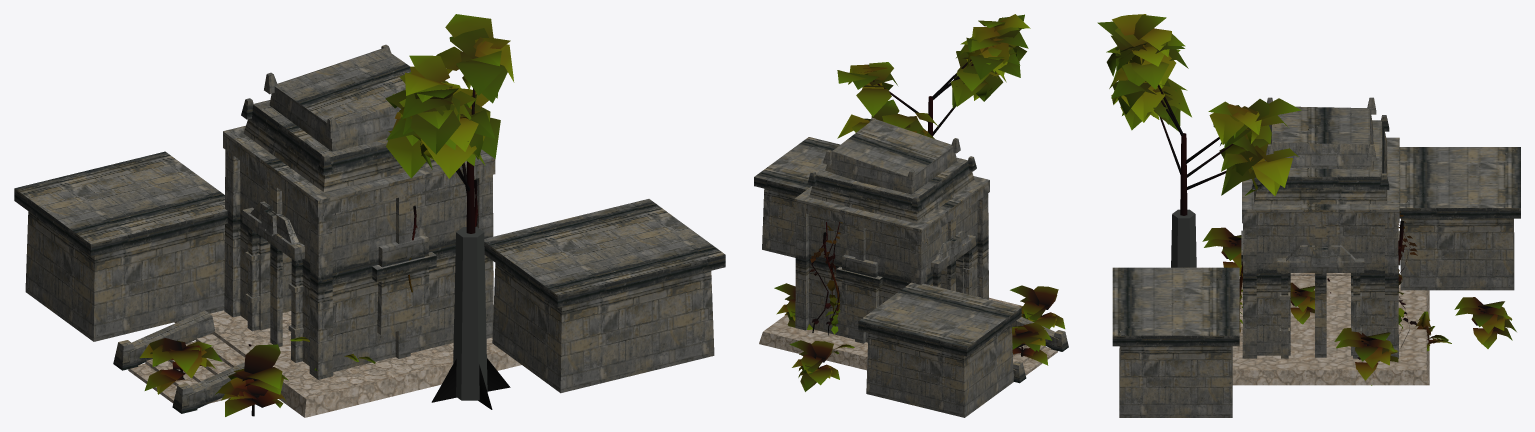
Rendered from prasat_ruin_08.glb.
The picture shows the model from 3 angles, left to right: view 1: azimuth 30°, elevation 25°; view 2: azimuth 150°, elevation 25°; view 3: azimuth 270°, elevation 25°; orthographic projection. The views are drawn at different scales.
Parts seen in each view (by area): view 1: prasat_ruin_08, prasat_ruin_08_veg_00_broadleaf_b, prasat_ruin_08-col, prasat_ruin_08_veg_07_bush_b, prasat_ruin_08_veg_10_bush_a; view 2: prasat_ruin_08, prasat_ruin_08_veg_00_broadleaf_b, prasat_ruin_08_veg_09_bush_b, prasat_ruin_08_veg_07_bush_b, prasat_ruin_08_veg_10_bush_a, prasat_ruin_08_veg_11_bush_b, prasat_ruin_08_veg_05_vine_a, prasat_ruin_08_veg_04_trunk_vine_a; view 3: prasat_ruin_08, prasat_ruin_08_veg_00_broadleaf_b, prasat_ruin_08_veg_09_bush_b, prasat_ruin_08_veg_11_bush_b, prasat_ruin_08-col, prasat_ruin_08_veg_07_bush_b, prasat_ruin_08_veg_13_bush_b, prasat_ruin_08_veg_08_fern_a.
Boxes of the visible parts, x1,y1,x2,y2 form: prasat_ruin_08: (14,44,725,417); prasat_ruin_08_veg_00_broadleaf_b: (385,14,514,409); prasat_ruin_08-col: (453,227,487,400); prasat_ruin_08_veg_07_bush_b: (215,344,288,416); prasat_ruin_08_veg_10_bush_a: (139,338,222,394); prasat_ruin_08: (754,117,1068,417); prasat_ruin_08_veg_00_broadleaf_b: (837,14,1030,138); prasat_ruin_08_veg_09_bush_b: (789,340,839,391); prasat_ruin_08_veg_07_bush_b: (1010,285,1065,328); prasat_ruin_08_veg_10_bush_a: (1012,322,1051,365); prasat_ruin_08_veg_11_bush_b: (774,283,812,329); prasat_ruin_08_veg_05_vine_a: (825,239,838,334); prasat_ruin_08_veg_04_trunk_vine_a: (809,222,833,332); prasat_ruin_08: (1112,97,1520,417); prasat_ruin_08_veg_00_broadleaf_b: (1097,14,1301,215); prasat_ruin_08_veg_09_bush_b: (1454,297,1516,348); prasat_ruin_08_veg_11_bush_b: (1334,328,1398,385); prasat_ruin_08-col: (1171,209,1196,267); prasat_ruin_08_veg_07_bush_b: (1202,227,1241,275); prasat_ruin_08_veg_13_bush_b: (1290,282,1314,324); prasat_ruin_08_veg_08_fern_a: (1415,311,1451,351).
Bounding box in the file's own units: 9.99 × 7.52 × 9.48.
11 materials, 11 textured.
